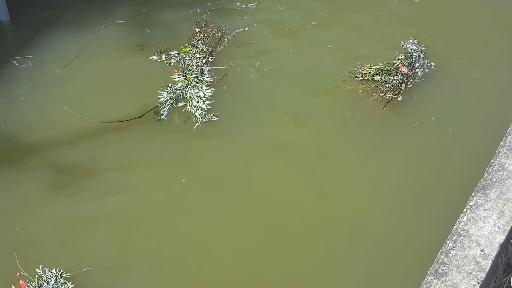twig: (126, 15, 251, 134), (327, 27, 467, 122), (0, 263, 86, 288)
